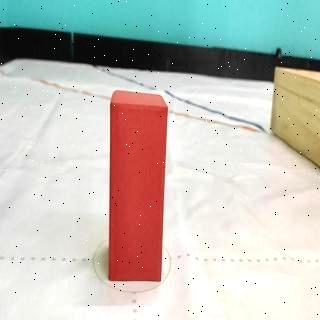redbox: (109, 88, 168, 281)
